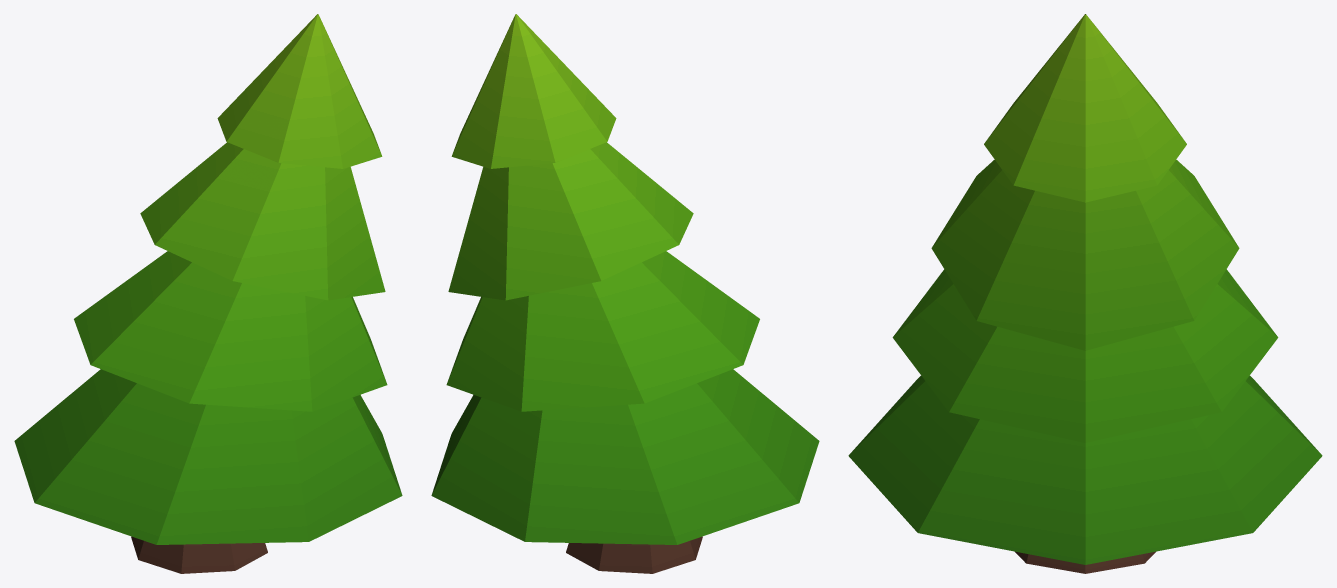
File: Arvore4.fbx
The picture shows the model from 3 angles, left to right: view 1: azimuth 30°, elevation 25°; view 2: azimuth 150°, elevation 25°; view 3: azimuth 270°, elevation 25°; orthographic projection. The views are drawn at different scales.
Parts seen in each view (by area): view 1: Arvore_inclinada; view 2: Arvore_inclinada; view 3: Arvore_inclinada.
Boxes of the visible parts, x1,y1,x2,y2 form: Arvore_inclinada: [14, 14, 402, 573]; Arvore_inclinada: [431, 14, 819, 573]; Arvore_inclinada: [848, 14, 1322, 573].
Size of the model in its own units: 1064 by 1467 by 1065.
